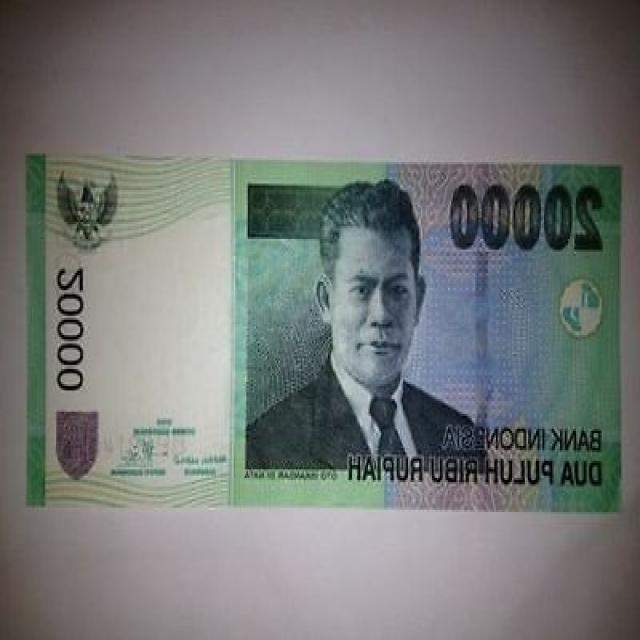dua puluh ribu rupiah: (23, 161, 624, 509), (320, 170, 423, 404), (444, 173, 608, 258)
